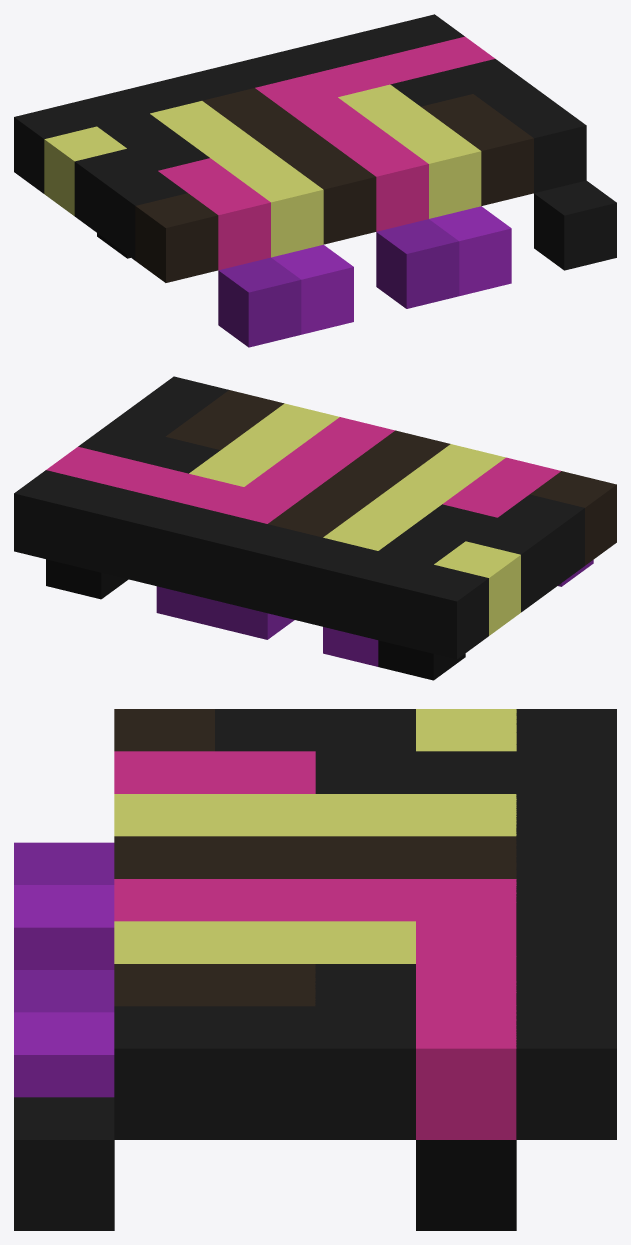
Rendered from CMU3DWornRMCHippieGlassesSunsetEyes.glb.
3 renders of one model, top to bottom at view 1: azimuth 30°, elevation 25°; view 2: azimuth 150°, elevation 25°; view 3: azimuth 270°, elevation 25°, orthographic. The views are drawn at different scales.
Visible parts, largest first — view 1: source volume 4, source volume 12, source volume 14, source volume 10, source volume 17, source volume 2, source volume 1, source volume 5, source volume 13, source volume 21, source volume 6, source volume 22 (+7 smaller); view 2: source volume 4, source volume 2, source volume 12, source volume 14, source volume 10, source volume 18, source volume 17, source volume 1, source volume 3, source volume 20, source volume 6, source volume 22 (+6 smaller); view 3: source volume 4, source volume 22, source volume 18, source volume 20, source volume 12, source volume 10, source volume 14, source volume 21, source volume 17, source volume 23, source volume 6, source volume 7 (+8 smaller).
Part boxes in pixels (left/top/right/bottom): source volume 4: left=14, top=14, right=464, bottom=193; source volume 12: left=202, top=88, right=376, bottom=244; source volume 14: left=255, top=75, right=428, bottom=231; source volume 10: left=150, top=101, right=323, bottom=257; source volume 17: left=338, top=84, right=481, bottom=218; source volume 2: left=74, top=148, right=187, bottom=260; source volume 1: left=135, top=193, right=218, bottom=282; source volume 5: left=218, top=257, right=301, bottom=347; source volume 13: left=376, top=219, right=459, bottom=308; source volume 21: left=534, top=180, right=616, bottom=270; source volume 6: left=158, top=158, right=270, bottom=270; source volume 22: left=473, top=81, right=586, bottom=193; source volume 4: left=14, top=470, right=488, bottom=659; source volume 2: left=466, top=494, right=584, bottom=612; source volume 12: left=268, top=430, right=450, bottom=537; source volume 14: left=212, top=417, right=394, bottom=523; source volume 10: left=323, top=444, right=505, bottom=550; source volume 18: left=46, top=446, right=243, bottom=510; source volume 17: left=189, top=403, right=339, bottom=486; source volume 1: left=530, top=471, right=616, bottom=565; source volume 3: left=434, top=541, right=520, bottom=635; source volume 20: left=78, top=423, right=220, bottom=473; source volume 6: left=442, top=457, right=560, bottom=517; source volume 22: left=110, top=376, right=228, bottom=436; source volume 4: left=516, top=709, right=616, bottom=1139; source volume 22: left=114, top=1006, right=315, bottom=1139; source volume 18: left=416, top=921, right=516, bottom=1139; source volume 20: left=315, top=964, right=415, bottom=1139; source volume 12: left=114, top=836, right=516, bottom=878; source volume 10: left=114, top=794, right=516, bottom=836; source volume 14: left=114, top=879, right=516, bottom=921; source volume 21: left=14, top=1097, right=114, bottom=1230; source volume 17: left=114, top=921, right=415, bottom=963; source volume 23: left=416, top=1140, right=516, bottom=1230; source volume 6: left=114, top=751, right=315, bottom=793; source volume 7: left=315, top=751, right=516, bottom=793.
Size of the model in its own units: 0.4 by 0.1 by 0.3.
